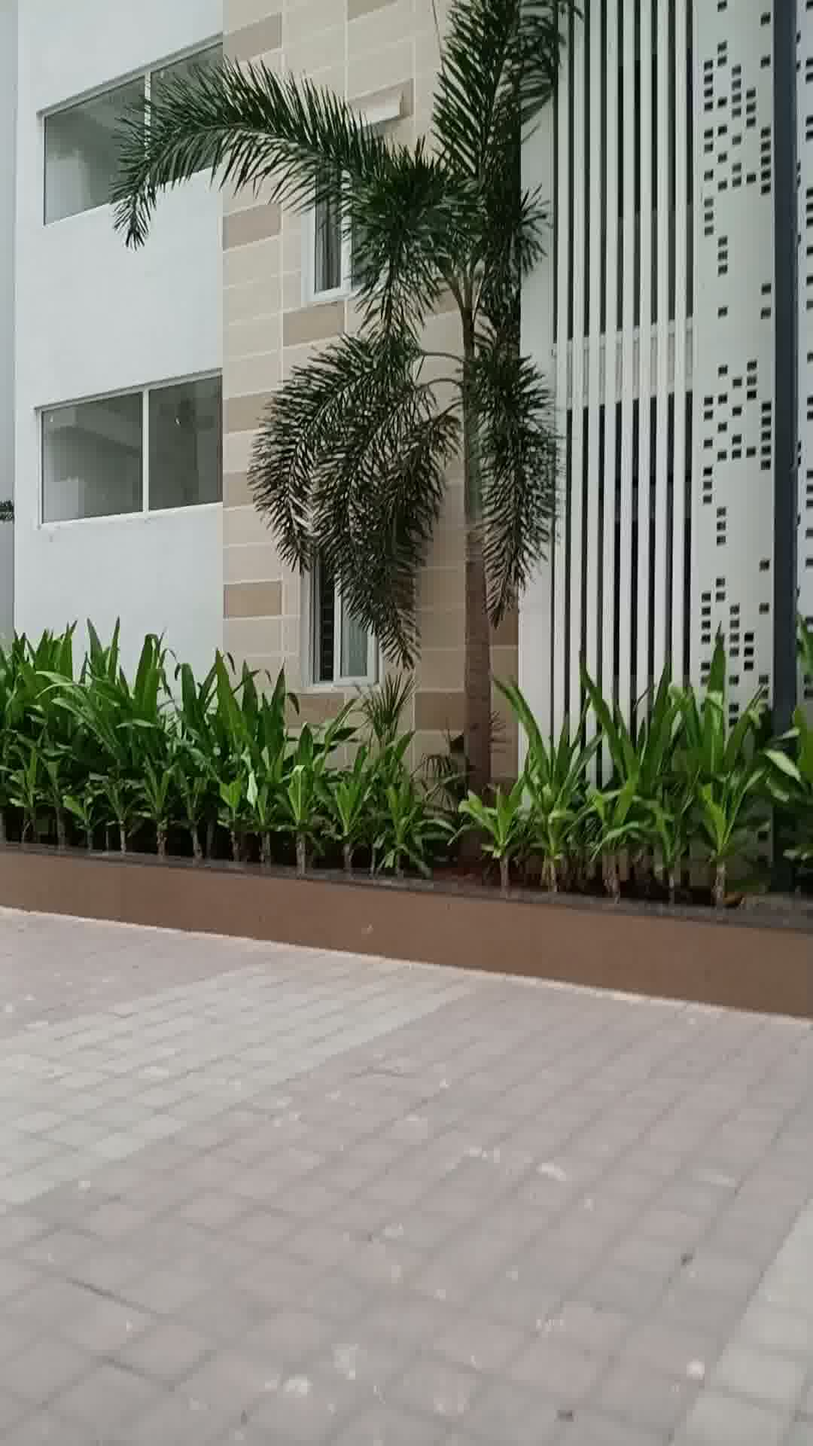tree: (91, 0, 632, 834)
